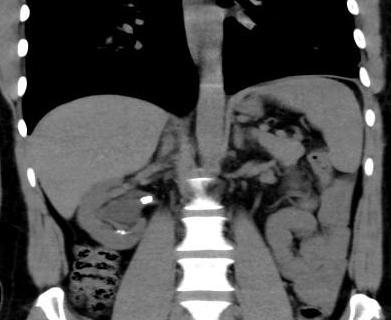Tas_Var: (139, 194, 153, 206), (115, 229, 121, 234), (120, 230, 126, 235)
